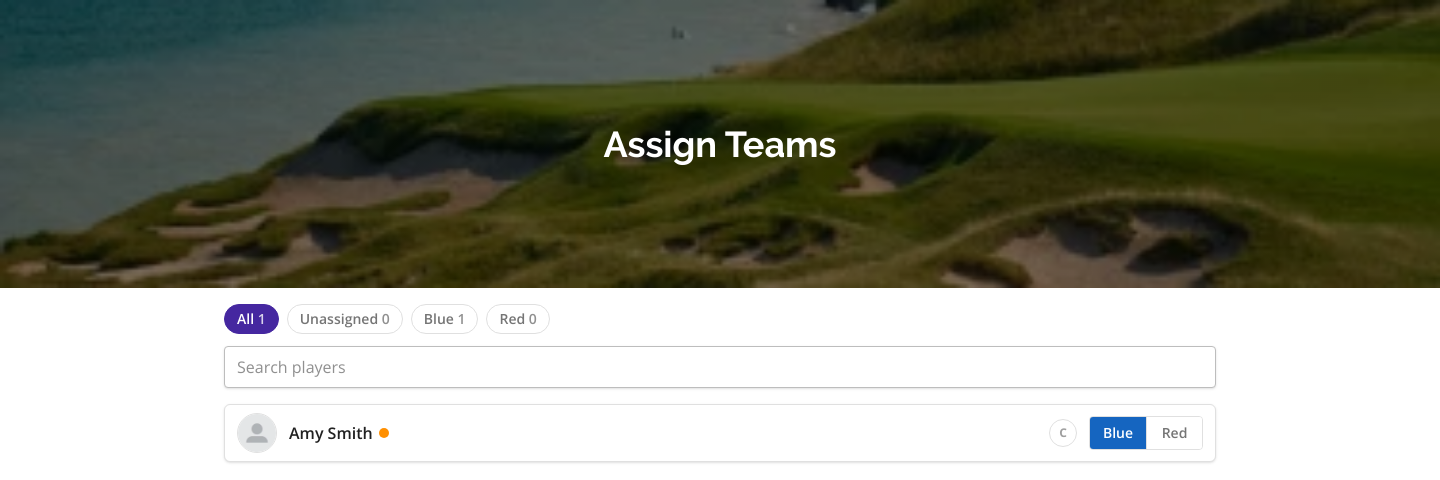
Test case: AdminTeamsView › undrafts before drafting when a player changes sides
Click the button "Red" at (1174, 433), box left=1146, top=417, right=1202, bottom=449
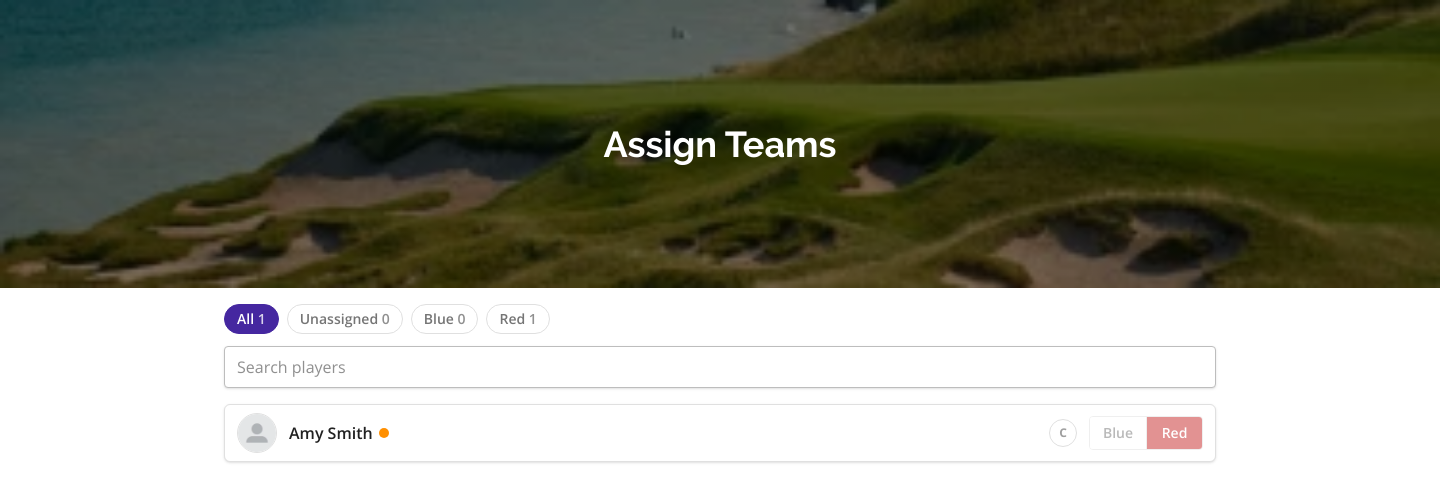
Now the button "Red 1" is shown, box left=486, top=304, right=550, bottom=334
Now the button "Blue 0" is shown, box left=411, top=304, right=478, bottom=334
